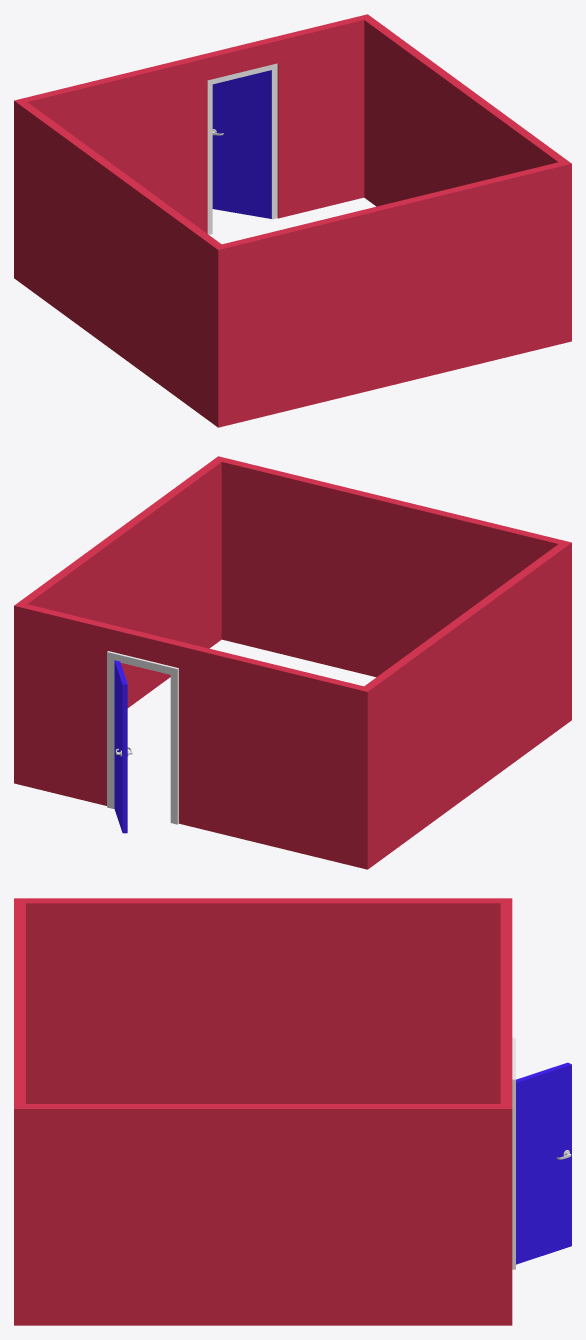
File: arcgimesh1.glb
3 views of the same model, one above another, from view 1: azimuth 30°, elevation 25°; view 2: azimuth 150°, elevation 25°; view 3: azimuth 270°, elevation 25° (orthographic). The views are drawn at different scales.
Parts seen in each view (by area): view 1: Room, Door, DoorFrame; view 2: Room, DoorFrame, Door; view 3: Room, Door, DoorFrame.
Part boxes in pixels (x1,y1,x2,y2): Room: (14,14,571,427); Door: (212,70,271,218); DoorFrame: (207,63,277,234); Room: (14,456,571,869); DoorFrame: (107,651,178,824); Door: (114,660,127,833); Room: (14,898,512,1325); Door: (516,1062,571,1264); DoorFrame: (512,1037,515,1269).
Bounding box in the file's own units: 5 × 2.4 × 5.6.
